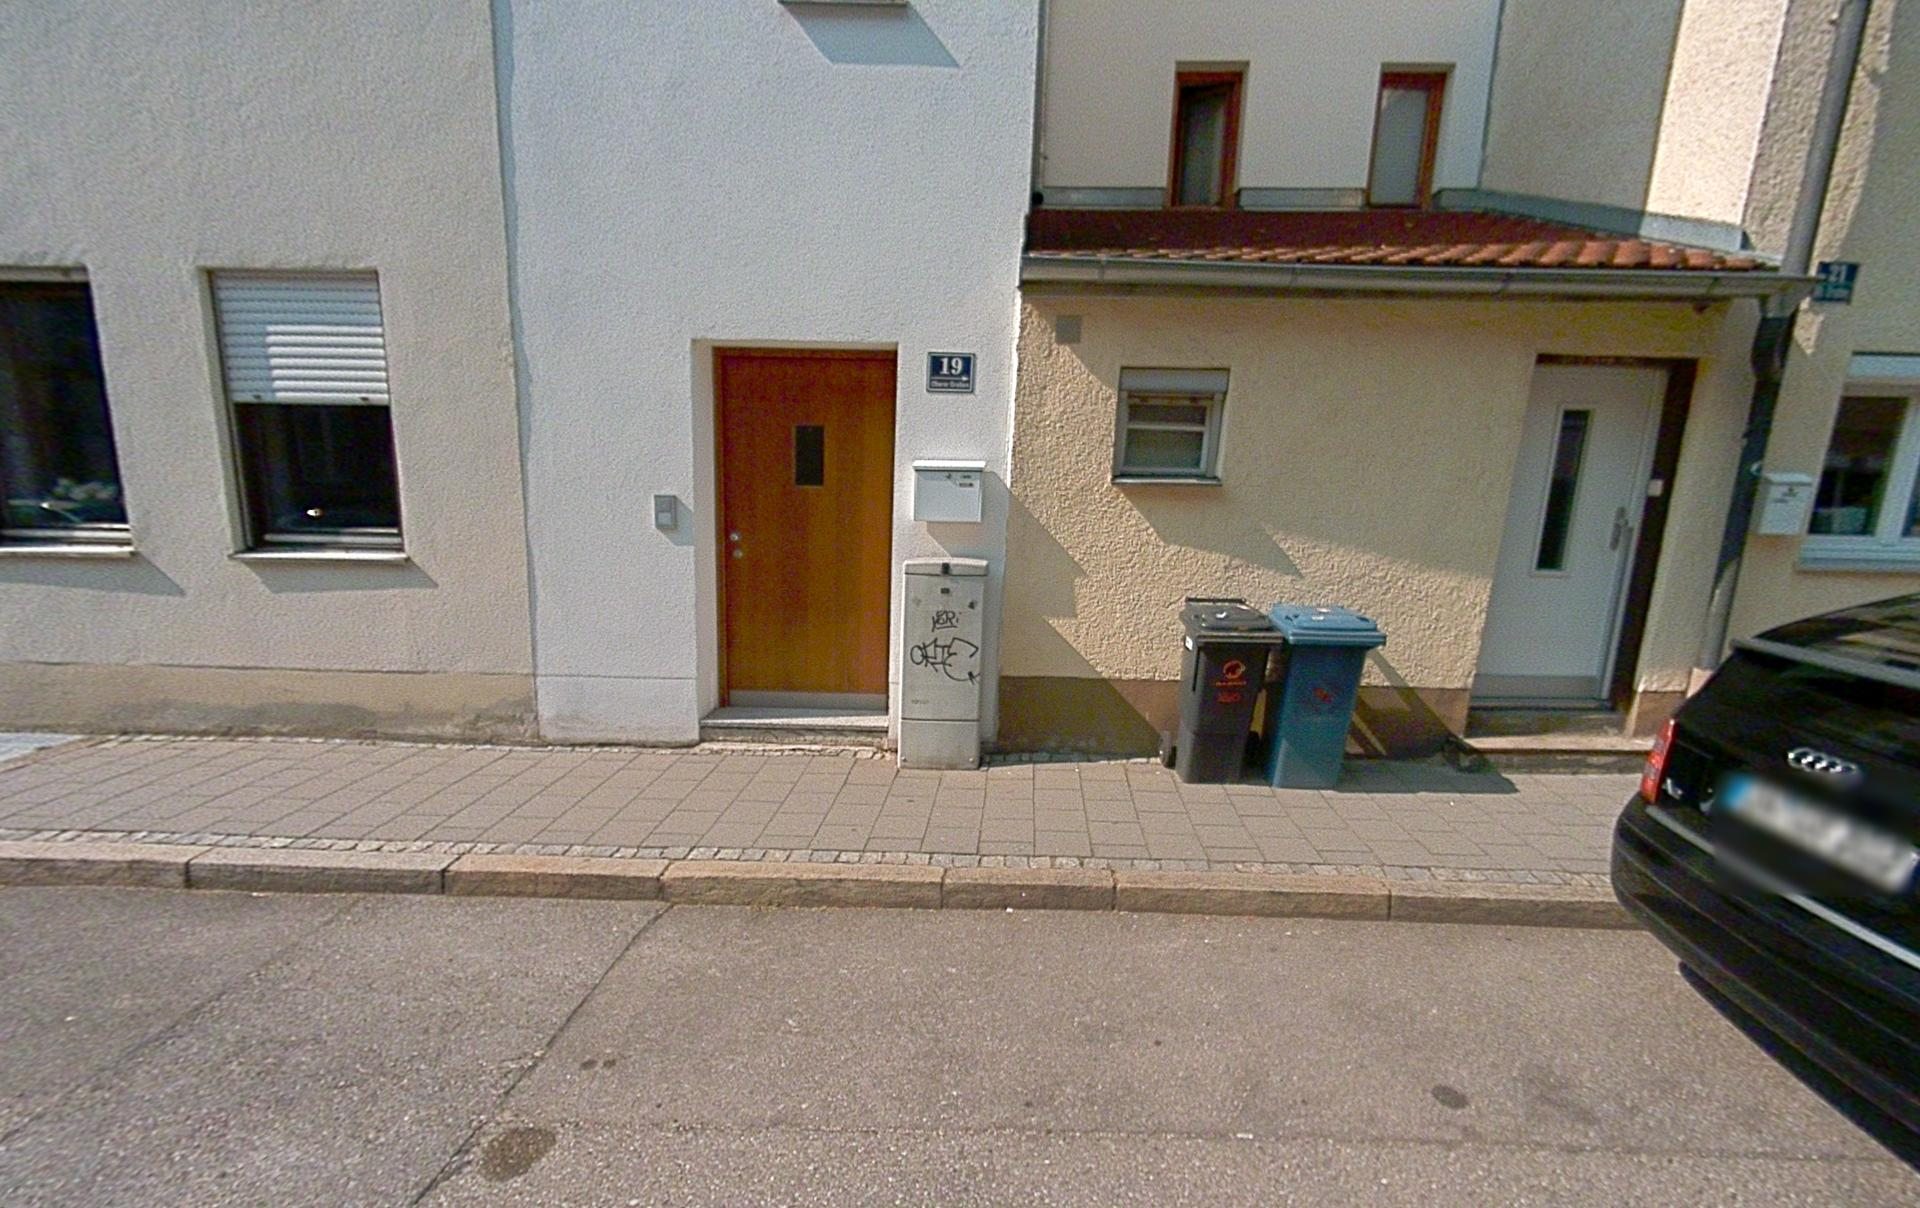car: (1610, 589, 1920, 1173)
